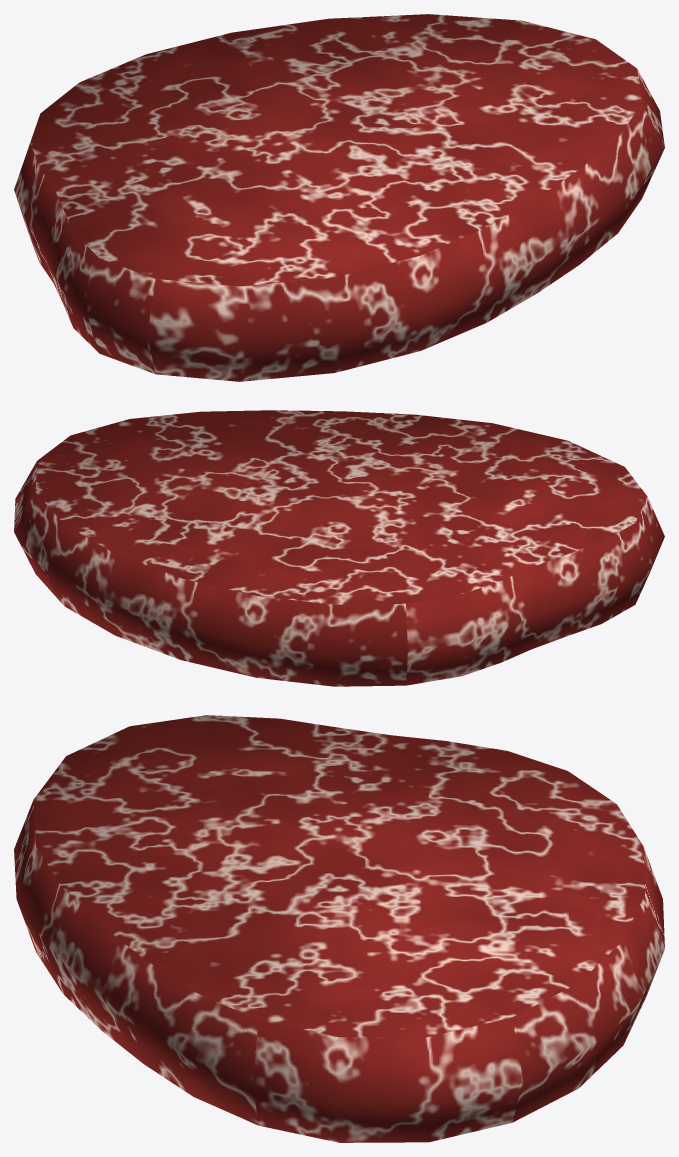
File: wagyu_steak.glb
3 views of the same model, one above another, from view 1: azimuth 30°, elevation 25°; view 2: azimuth 150°, elevation 25°; view 3: azimuth 270°, elevation 25° (orthographic). The views are drawn at different scales.
Parts seen in each view (by area): view 1: WagyuSteak; view 2: WagyuSteak; view 3: WagyuSteak.
Boxes of the visible parts, left/top/right/bottom form: WagyuSteak: left=14, top=14, right=664, bottom=381; WagyuSteak: left=14, top=410, right=664, bottom=686; WagyuSteak: left=14, top=715, right=664, bottom=1142.
Size of the model in its own units: 0.1535 by 0.025 by 0.1231.
Materials: 1 (1 with a texture image).
